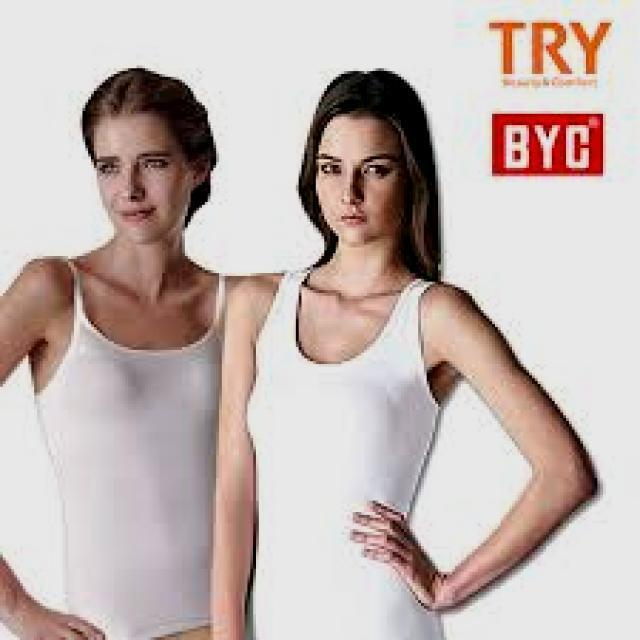no_vest: (32, 250, 237, 640), (246, 264, 444, 640)
